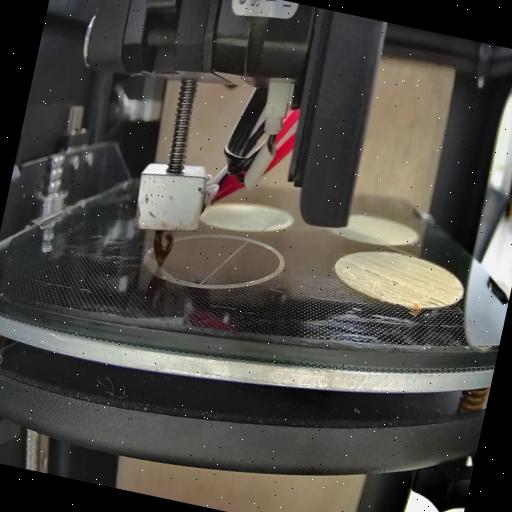under_extrusion: (342, 261, 402, 287), (418, 294, 448, 314), (395, 295, 418, 308), (448, 282, 466, 294)
